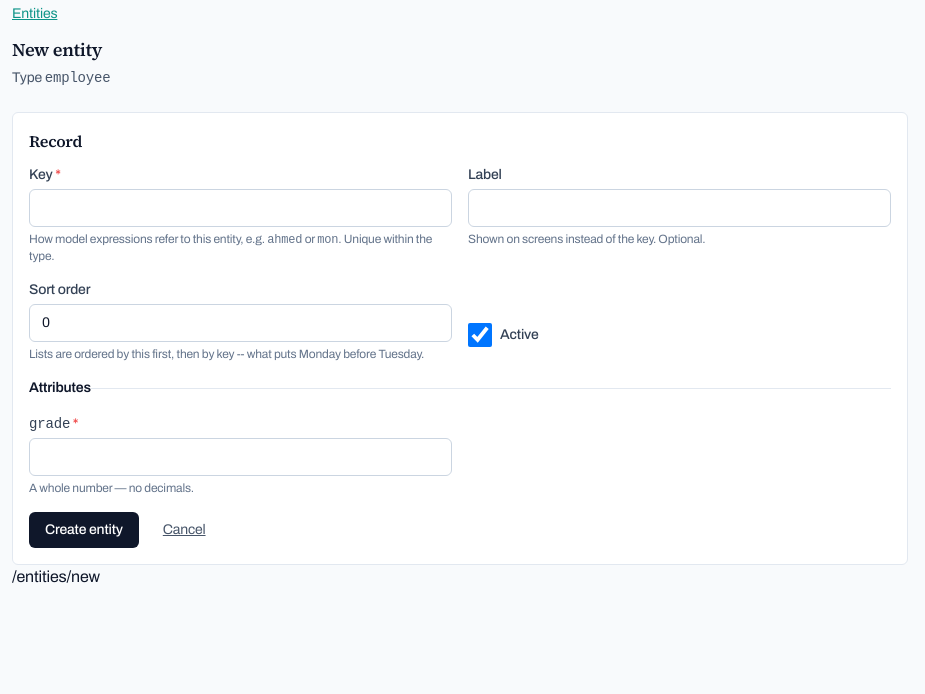
EntityRecord: creating an entity › blocks submit on an empty required attribute before the server sees it
Check: the field labelled "grade *" is shown, box x1=29 y1=438 x2=452 y2=476
Type "ahmed" into the field labelled "Key *" at (240, 208), box x1=29 y1=189 x2=452 y2=227
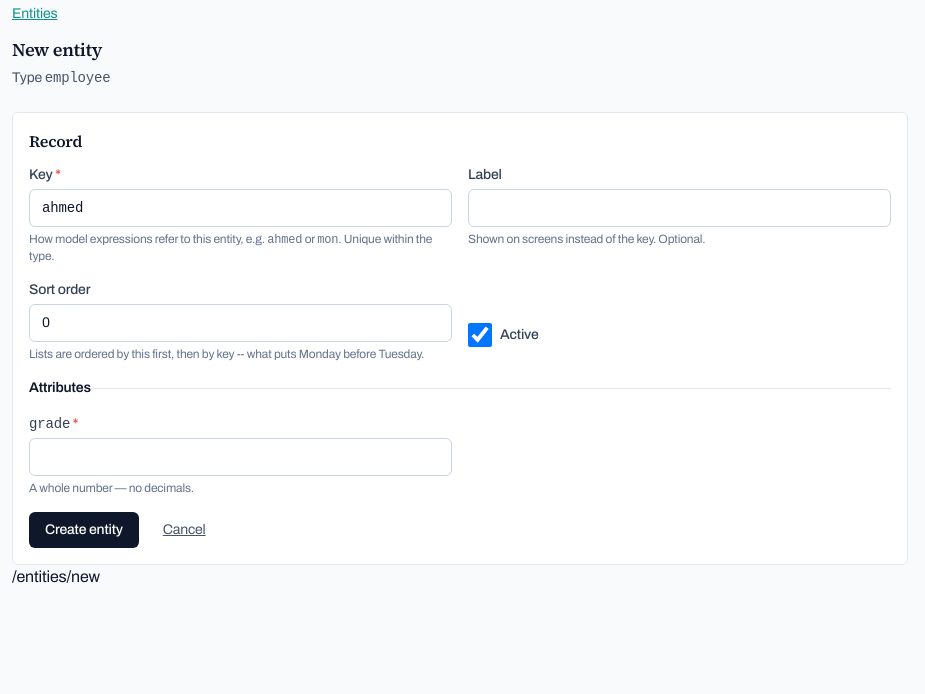
Click the button "Create entity" at (84, 530), box x1=29 y1=512 x2=139 y2=548
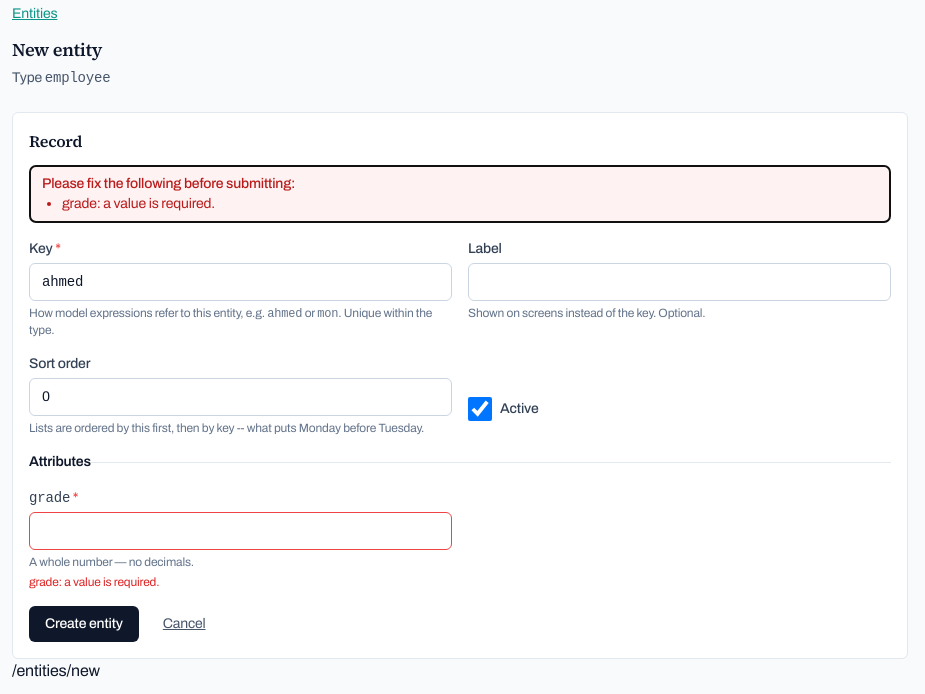
Check: the message "Please fix the following before submitting: grade: a value is required." is shown, box x1=29 y1=165 x2=891 y2=223
